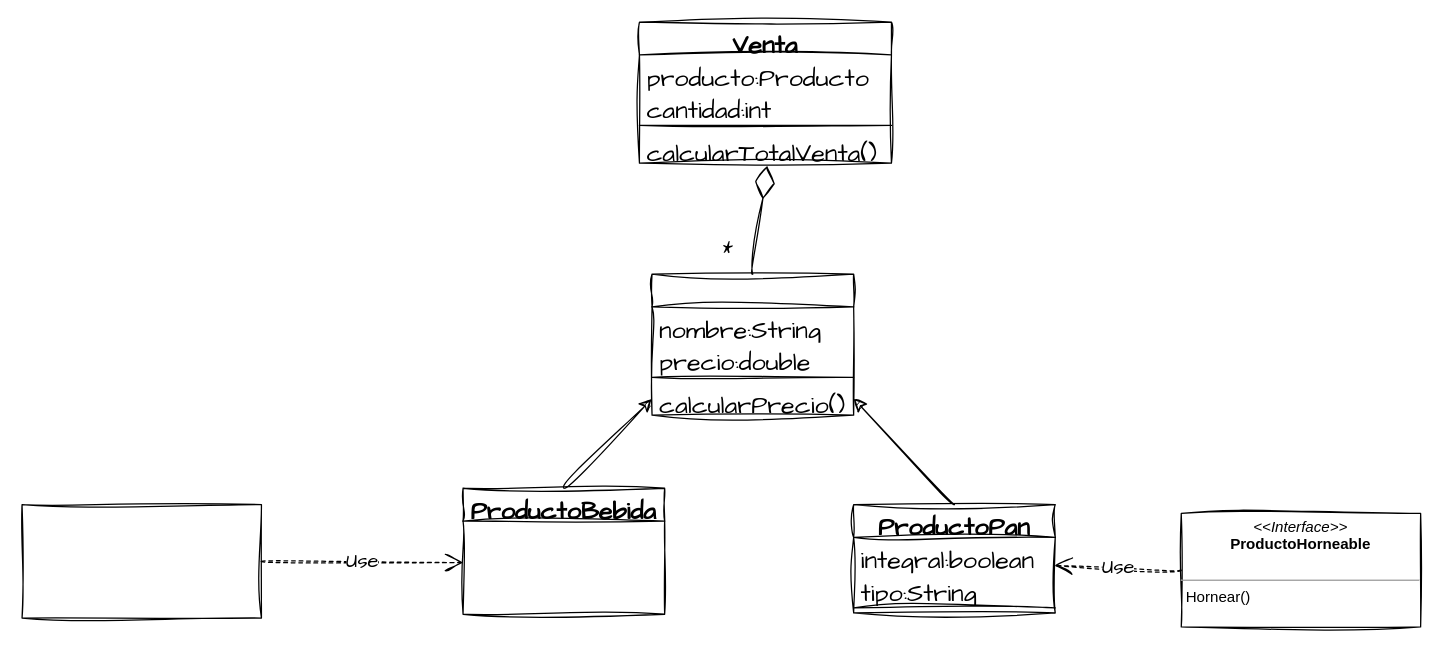
Image size: 1443x649. Some labels were removed from this diagram. Here are the shapes that lost their labels. From the top down, the box of each, then its label:
(651, 273, 854, 415): Producto
(21, 503, 261, 618): <<Interface>> ProductoRefrigerable refrigerar()
